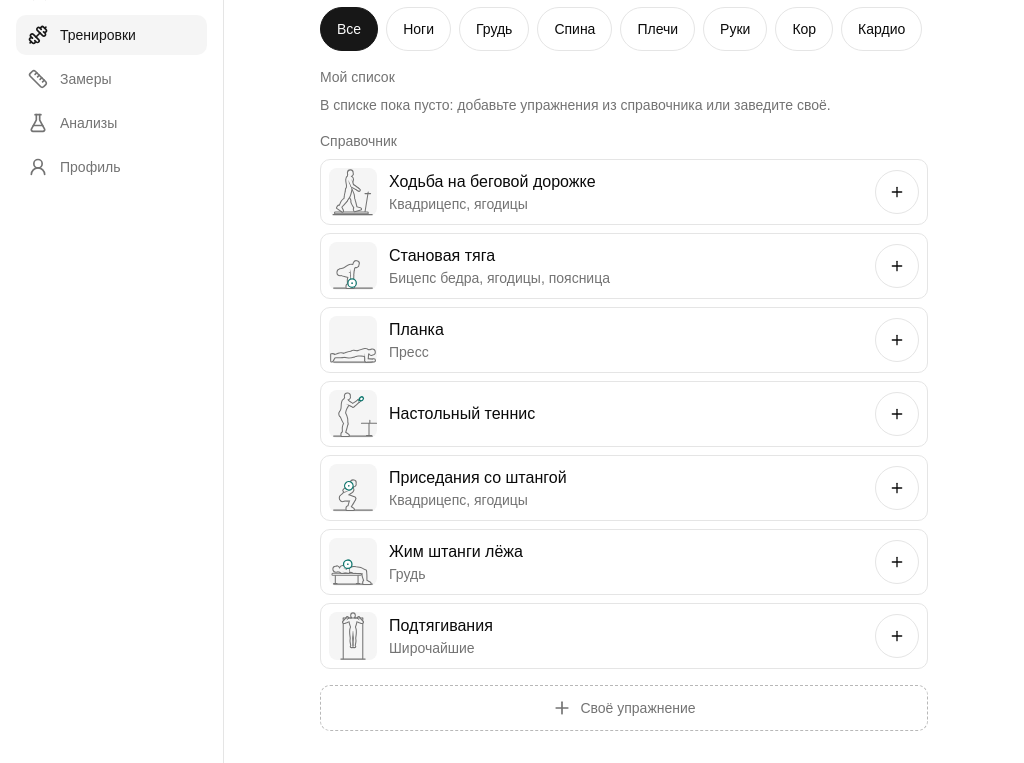
Test: список упражнений › своё упражнение заводится по пунктирной ссылке
(page scrolled)
Click the link "Своё упражнение" at (624, 708), box [320, 685, 928, 731]
(page scrolled)
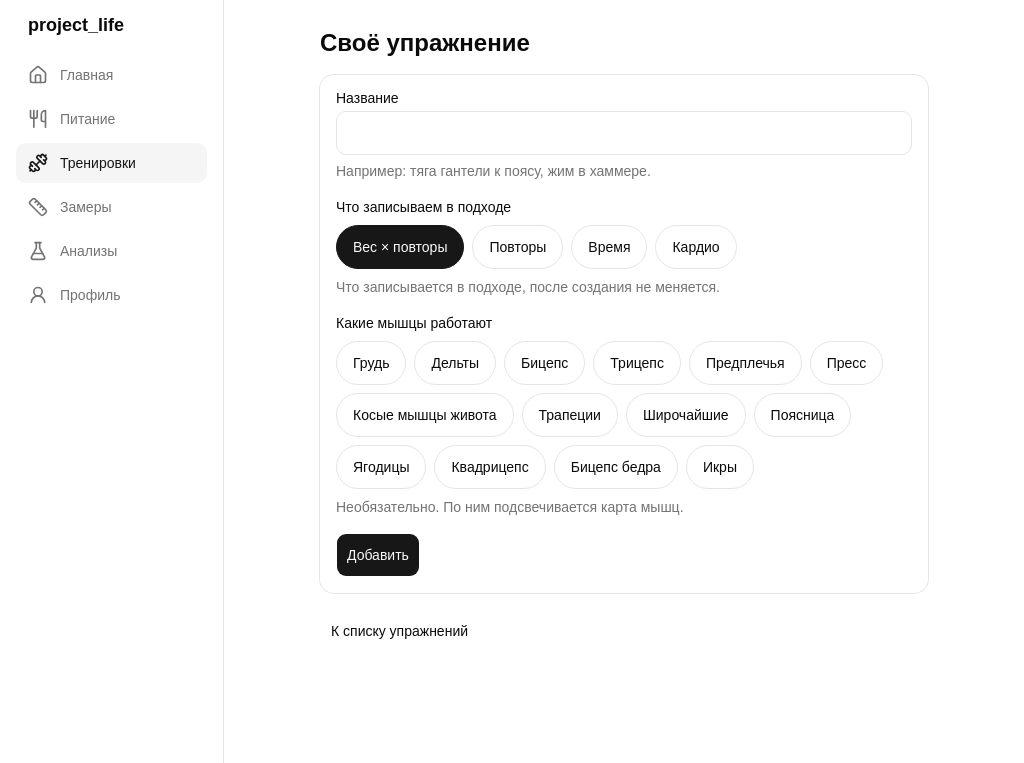
Now the heading "Своё упражнение" is shown, box [320, 29, 530, 56]
